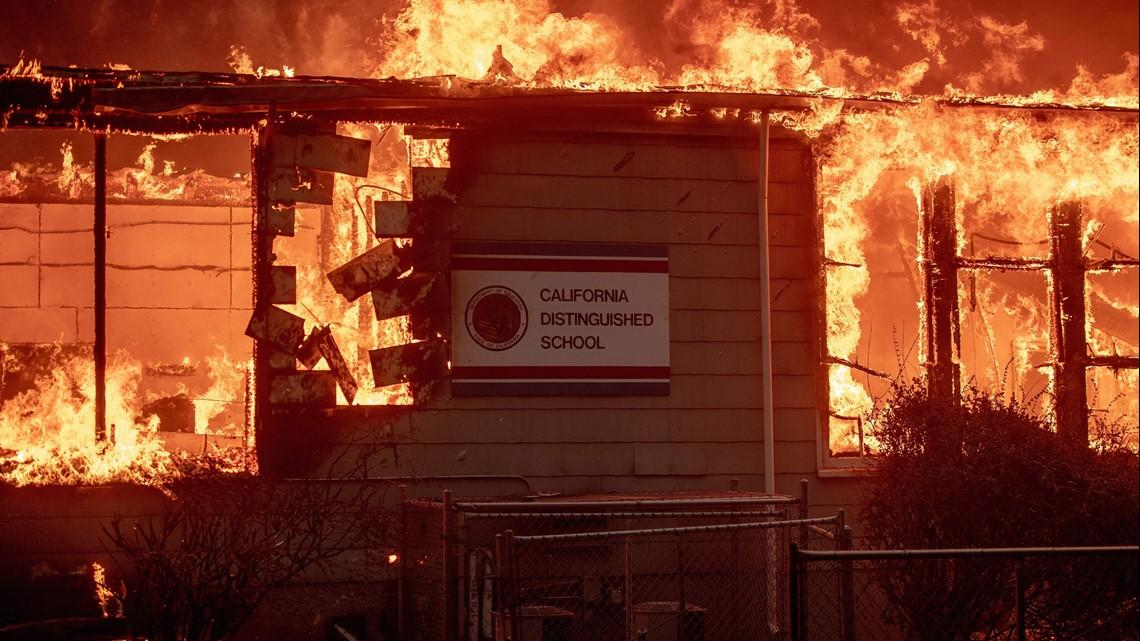Fire: (29, 2, 1090, 490)
